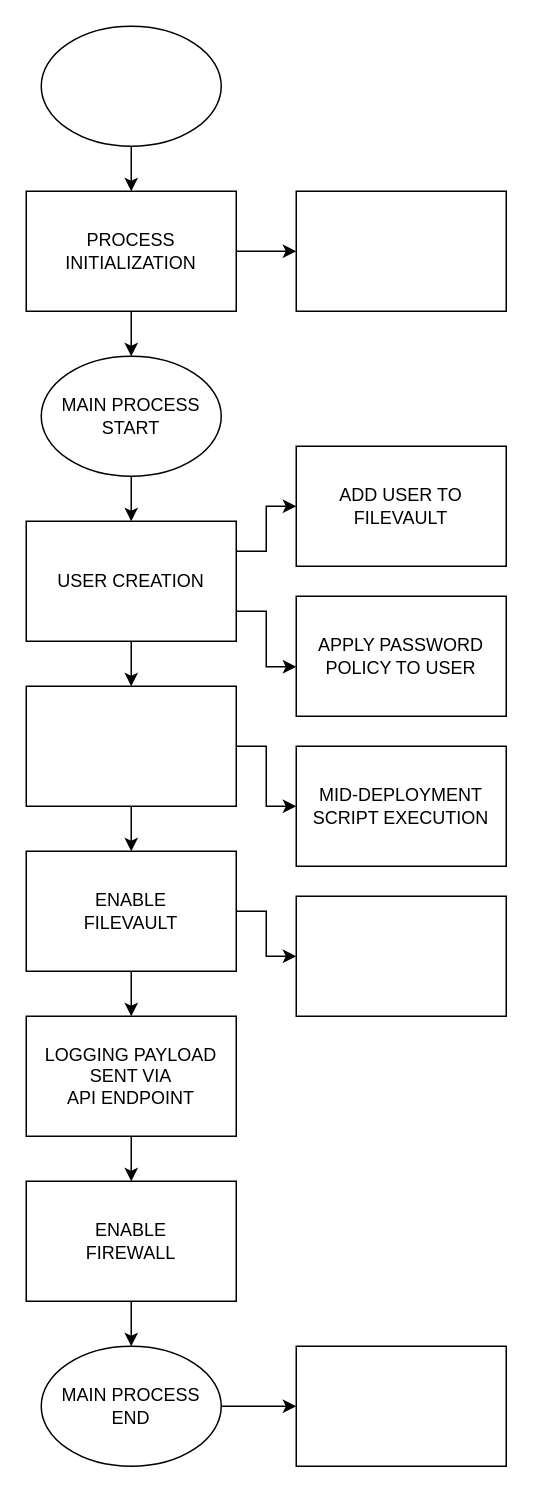
Some shapes in this 533 by 1493 pixel diagram are drawn without their labels. Here are the shapes that lost their labels. From the top down, the centre of each, then its label:
pixel 130 85: MACDEPLOY START
pixel 400 250: PRE-DEPLOYMENT SCRIPT EXECUTION
pixel 130 745: APPLICATION INSTALLATION
pixel 400 955: FILEVAULT KEY PAYLOAD SENT VIA API ENDPOINT
pixel 400 1405: POST-DEPLOYMENT SCRIPT EXECUTION
